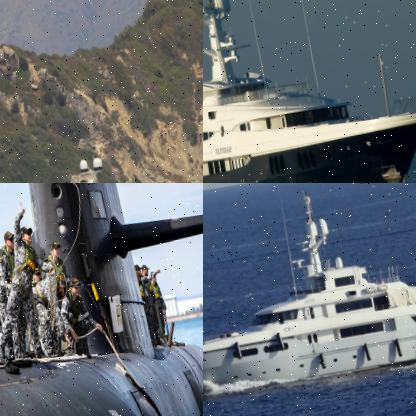Submarine: (0, 183, 202, 415)
Yacht: (203, 183, 415, 406), (203, 0, 415, 182), (0, 138, 202, 182)
